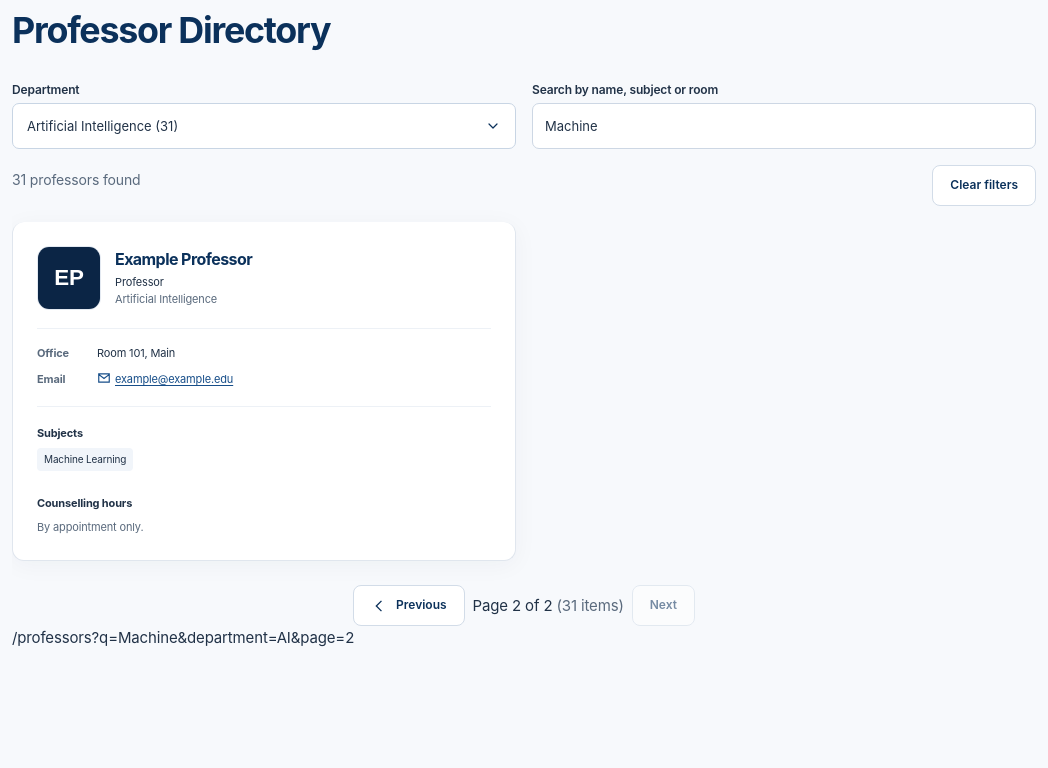
Test: professor results use the server total and Clear filters resets keyword, department and page together
Expected: the text "31 professors found" is shown, [12, 168, 140, 191]
Expected: the text "Room 101, Main" is shown, [97, 346, 175, 360]
Step 1. Click the button "Clear filters" → [984, 186], box [932, 165, 1036, 206]
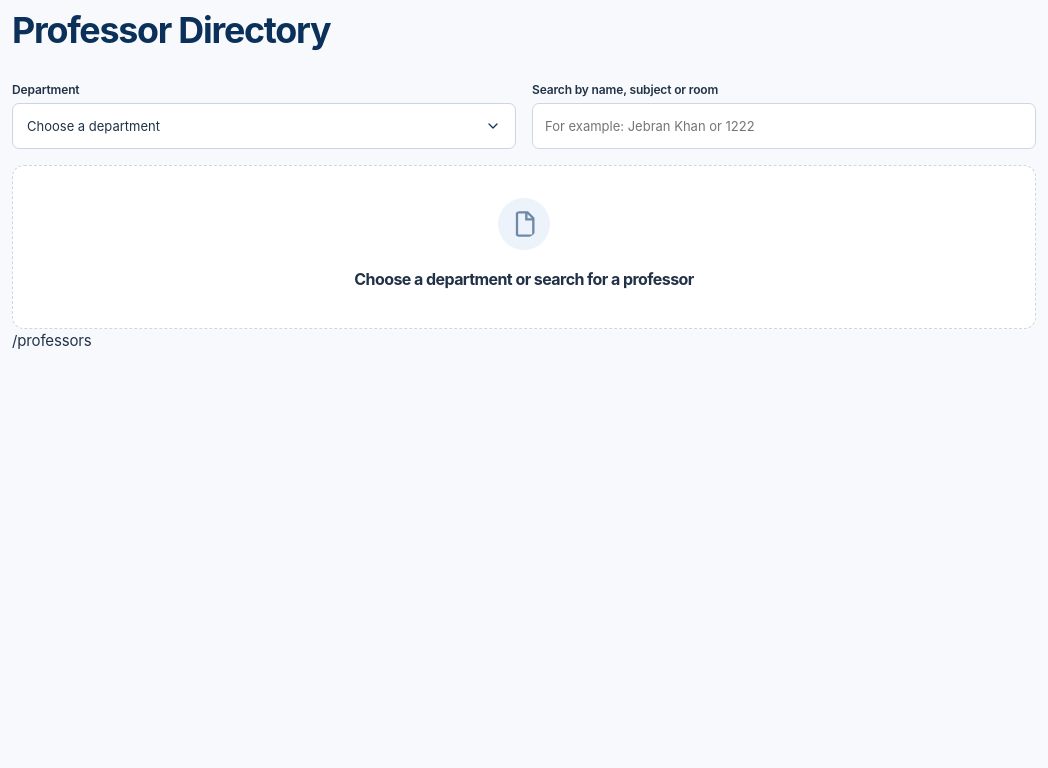
Result: the text with test id "location" reads "/professors" at [12, 331, 92, 350]
Result: the search field labelled "Search by name, subject or room" is empty at [532, 103, 1036, 149]
Result: the button "Clear filters" is gone
